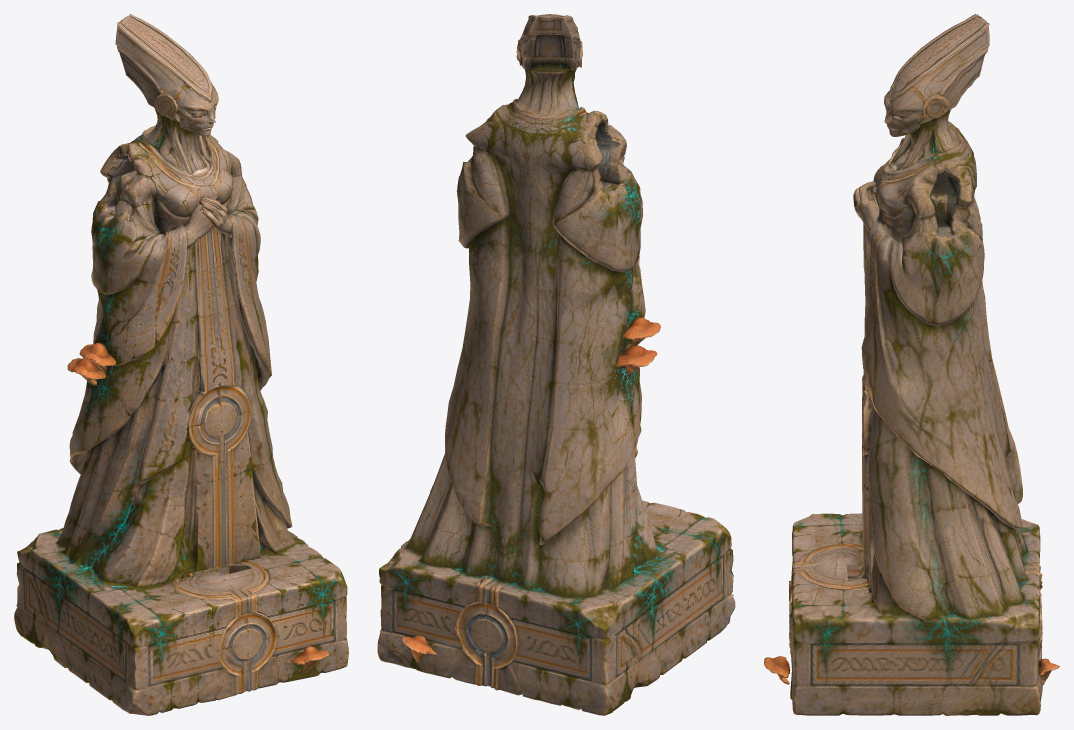
Rendered from citadel_statue.glb.
3 views of the same model, side by side, from view 1: azimuth 30°, elevation 25°; view 2: azimuth 150°, elevation 25°; view 3: azimuth 270°, elevation 25° (orthographic). The views are drawn at different scales.
Bounding box in the file's own units: 0.3516 × 0.9512 × 0.4038.
1 material, 1 textured.
